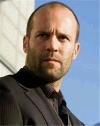male: (23, 3, 81, 82)
